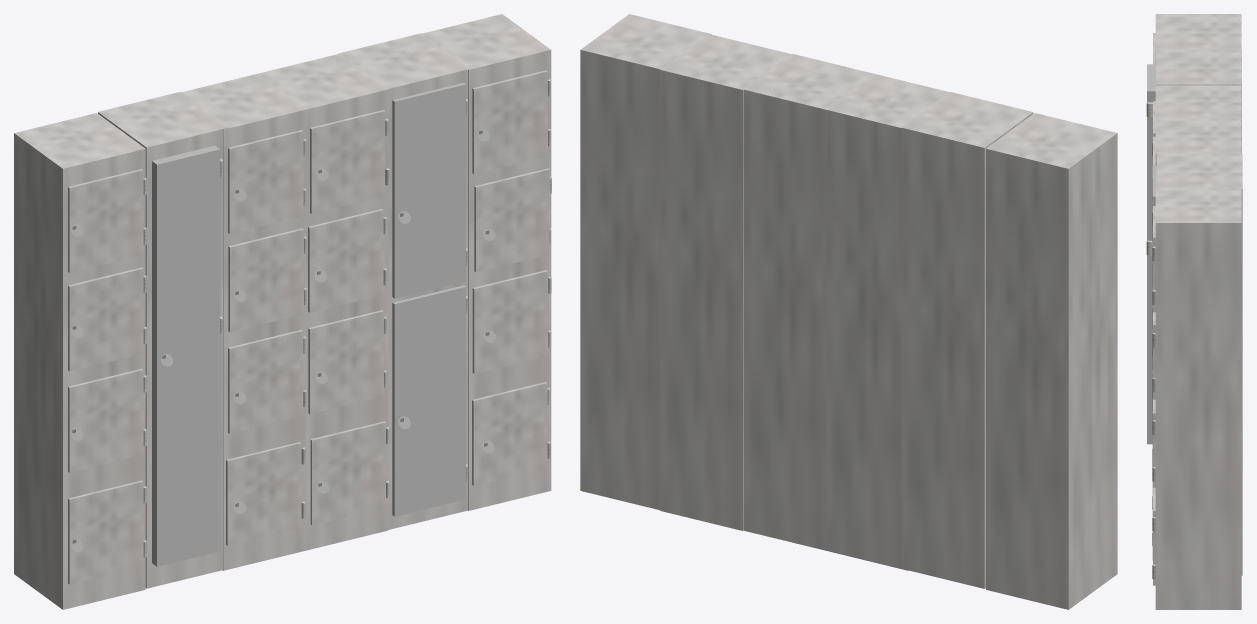
The model's file is Lockers.FBX.
3 views of the same model, side by side, from view 1: azimuth 30°, elevation 25°; view 2: azimuth 150°, elevation 25°; view 3: azimuth 270°, elevation 25° (orthographic). The views are drawn at different scales.
Visible parts, largest first — view 1: Box001, Box014, Box024, Box006, Box023, Box004, Box003, Box002, Box005, Box027, Box017, Box025 (+13 smaller); view 2: Box001, Box002, Box005, Box004, Box006, Box003; view 3: Box006, Box005, Box002, Box004, Box001, Box003, Box014, Box023, Box025, Box028, Box026, Box027.
Boxes of the visible parts, x1=… form: Box001: x1=14, y1=113, x2=145, y2=609; Box014: x1=152, y1=145, x2=220, y2=566; Box024: x1=392, y1=285, x2=465, y2=516; Box006: x1=420, y1=14, x2=551, y2=510; Box023: x1=392, y1=82, x2=465, y2=298; Box004: x1=257, y1=54, x2=388, y2=550; Box003: x1=182, y1=74, x2=305, y2=570; Box002: x1=98, y1=91, x2=229, y2=588; Box005: x1=338, y1=33, x2=469, y2=529; Box027: x1=472, y1=270, x2=548, y2=373; Box017: x1=68, y1=368, x2=143, y2=472; Box025: x1=472, y1=70, x2=547, y2=174; Box001: x1=986, y1=113, x2=1117, y2=609; Box002: x1=901, y1=92, x2=1033, y2=588; Box005: x1=660, y1=34, x2=791, y2=530; Box004: x1=743, y1=54, x2=874, y2=550; Box006: x1=580, y1=14, x2=711, y2=510; Box003: x1=825, y1=74, x2=949, y2=570; Box006: x1=1155, y1=187, x2=1241, y2=609; Box005: x1=1156, y1=153, x2=1242, y2=575; Box002: x1=1156, y1=49, x2=1241, y2=152; Box004: x1=1155, y1=118, x2=1241, y2=165; Box001: x1=1155, y1=14, x2=1241, y2=63; Box003: x1=1155, y1=83, x2=1241, y2=117; Box014: x1=1147, y1=64, x2=1155, y2=444; Box023: x1=1152, y1=166, x2=1156, y2=368; Box025: x1=1153, y1=206, x2=1155, y2=312; Box028: x1=1153, y1=487, x2=1155, y2=585; Box026: x1=1153, y1=312, x2=1155, y2=399; Box027: x1=1153, y1=399, x2=1155, y2=487.
Size of the model in its own units: 87.24 by 75.41 by 16.96.
